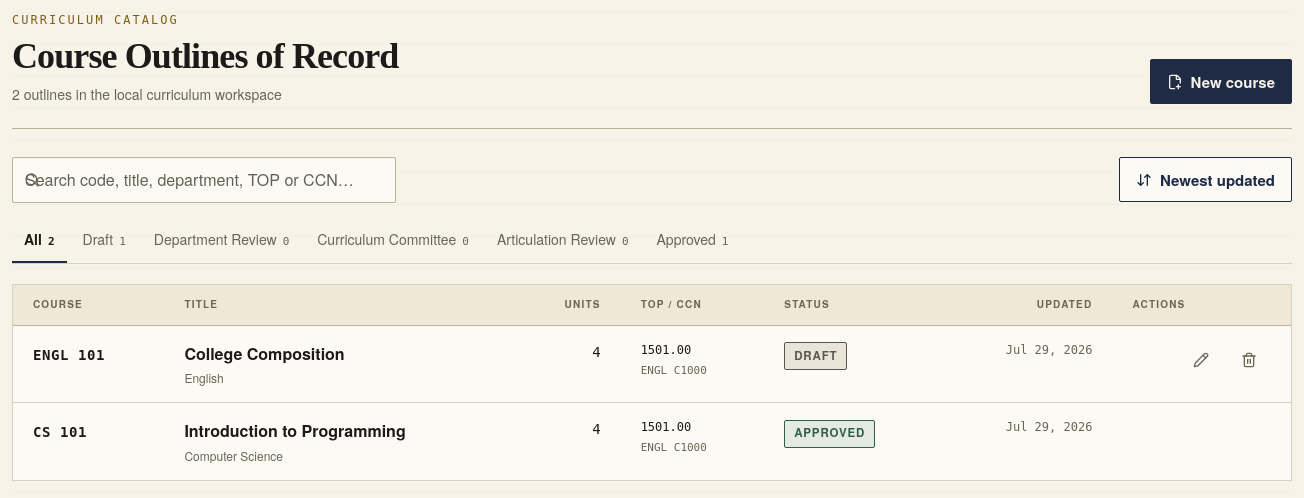
it: CoursesList › searches across course identity and filters by workflow status
The width and height of the screenshot is (1304, 498).
Type "programming" into the search field named "Search courses" at [204, 180], box [12, 157, 396, 203]
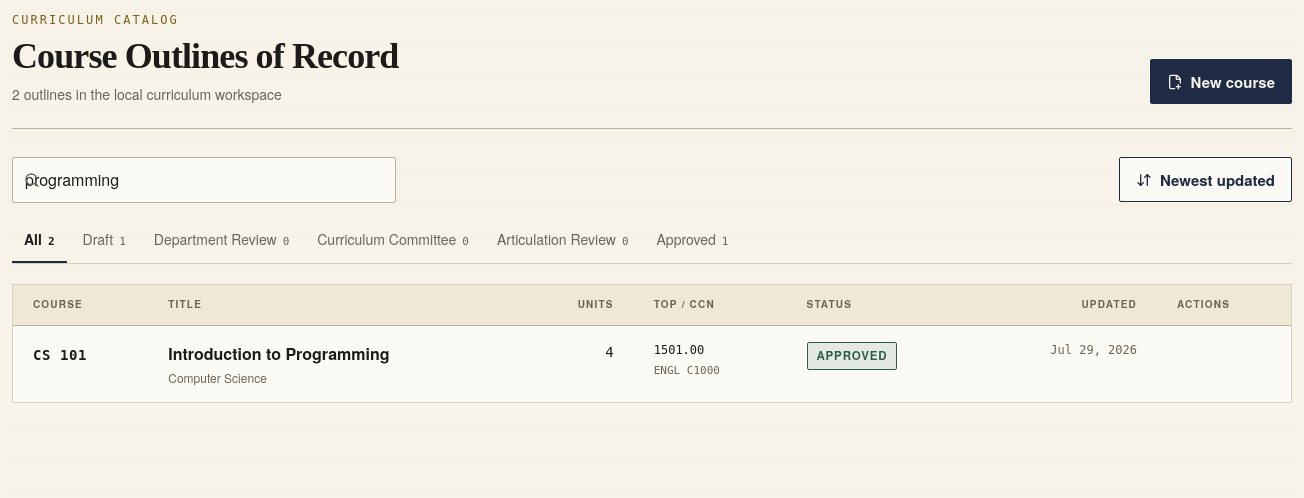
expect the link "Introduction to Programming" is shown: met, box [168, 342, 390, 364]
expect the link "College Composition" is gone: met
Clear the search field named "Search courses" at [204, 180], box [12, 157, 396, 203]
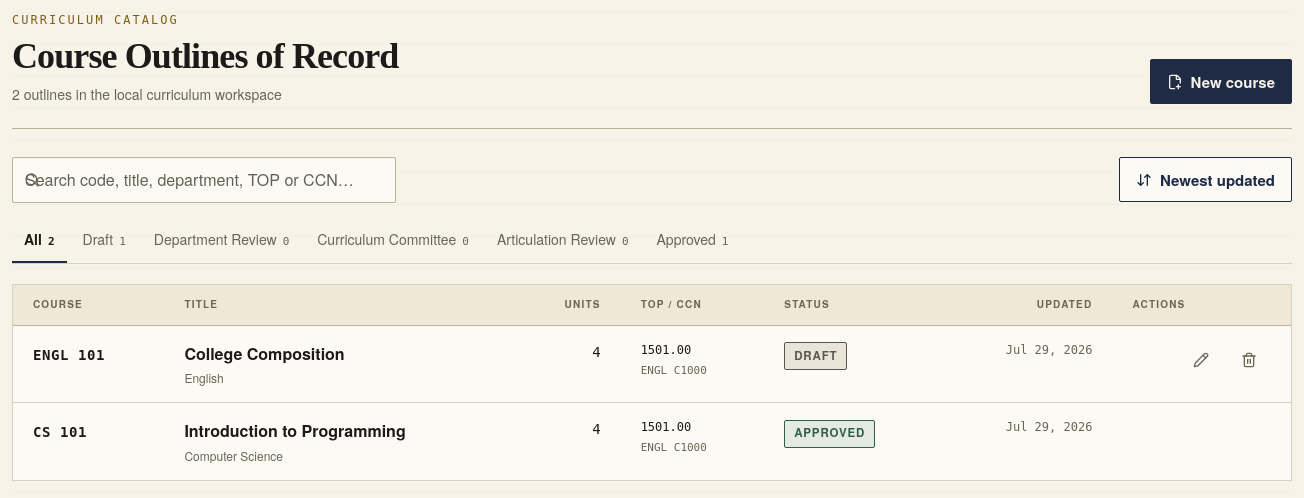
Click the button with aria-label "Approved: 1 course" at [692, 241], box [644, 219, 740, 263]
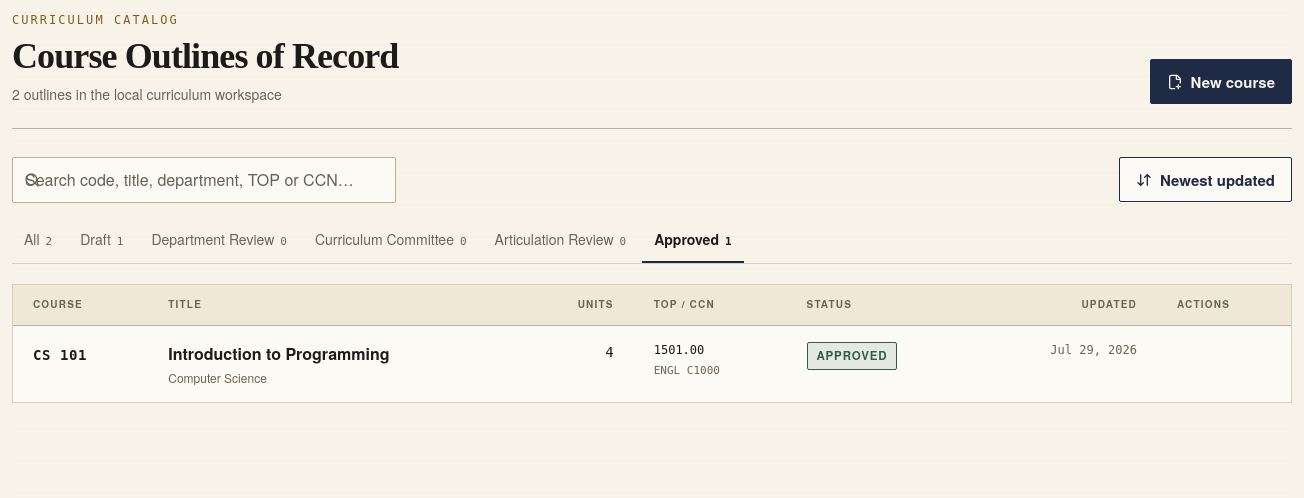
expect the link "Introduction to Programming" is shown: met, box [168, 342, 390, 364]
expect the link "College Composition" is gone: met
